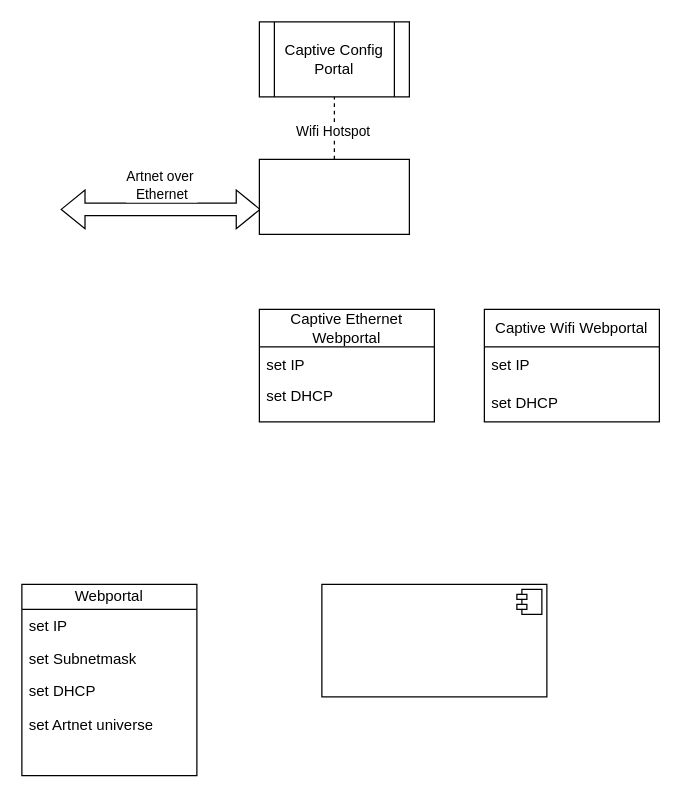
This 681x798 diagram has some shape labels left out. The centre of each missing label's shape, as x and y in pixels:
"Component + Attribute1: Type + Attribute2: Type" belongs at point 434,640.
"ETH01" belongs at point 333,196.
